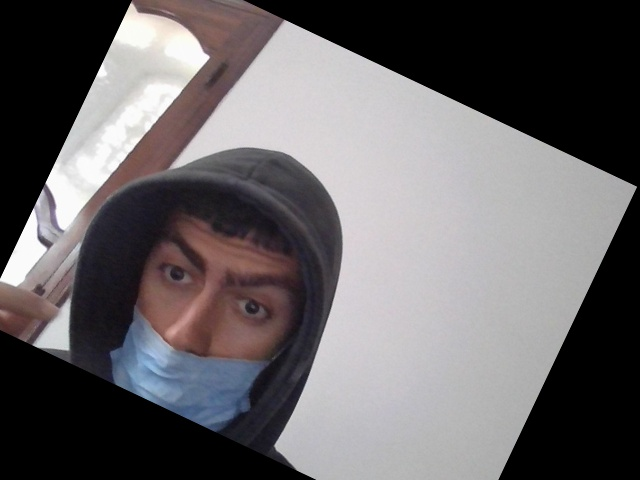mask_weared_incorrect: (110, 184, 301, 434)
